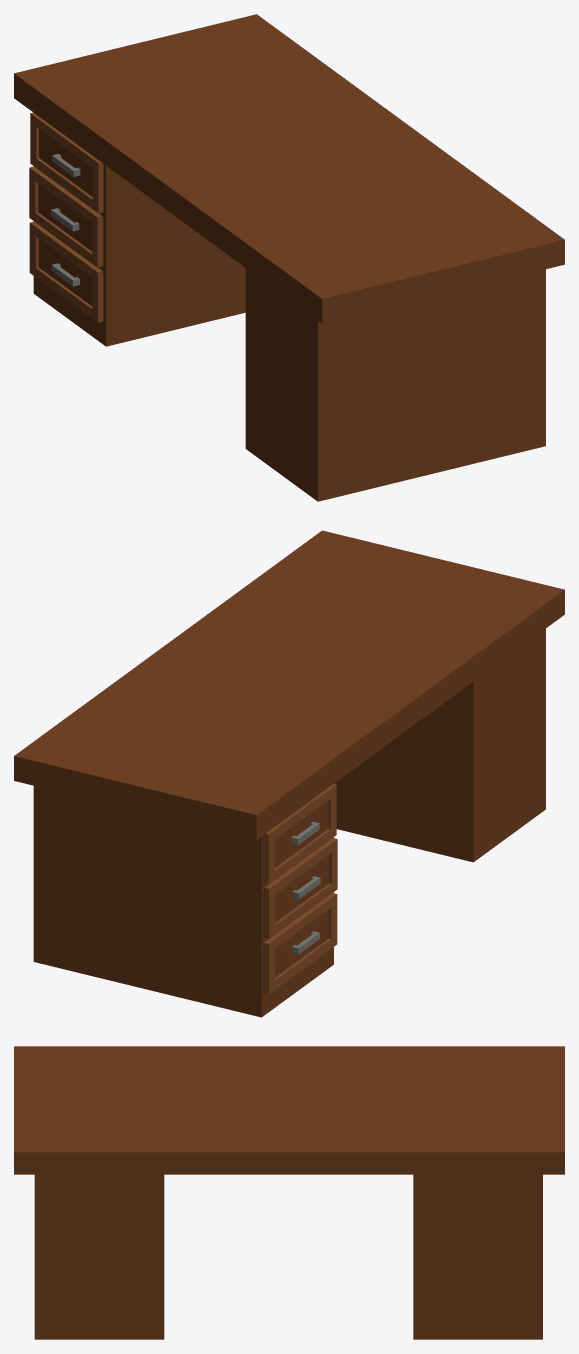
The model's file is Desk.fbx.
3 views of the same model, one above another, from view 1: azimuth 30°, elevation 25°; view 2: azimuth 150°, elevation 25°; view 3: azimuth 270°, elevation 25° (orthographic). The views are drawn at different scales.
Visible parts, largest first — view 1: Cube.8157; view 2: Cube.8157; view 3: Cube.8157.
Boxes of the visible parts, x1,y1,x2,y2 form: Cube.8157: [14, 14, 564, 501]; Cube.8157: [14, 530, 564, 1017]; Cube.8157: [14, 1046, 564, 1339].
Size of the model in its own units: 148 by 123 by 322.
Materials: 1 (1 with a texture image).
